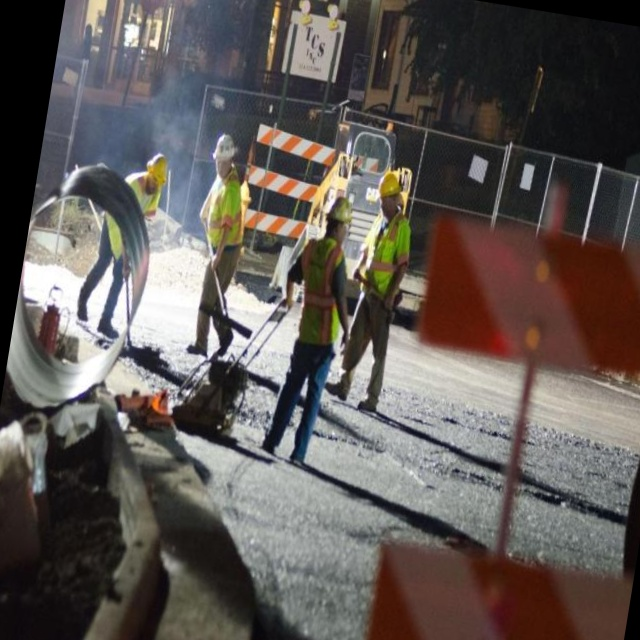Con_Casco: (211, 133, 240, 173)
Con_Chaleco: (290, 233, 355, 350), (361, 214, 415, 297), (201, 172, 252, 250)
